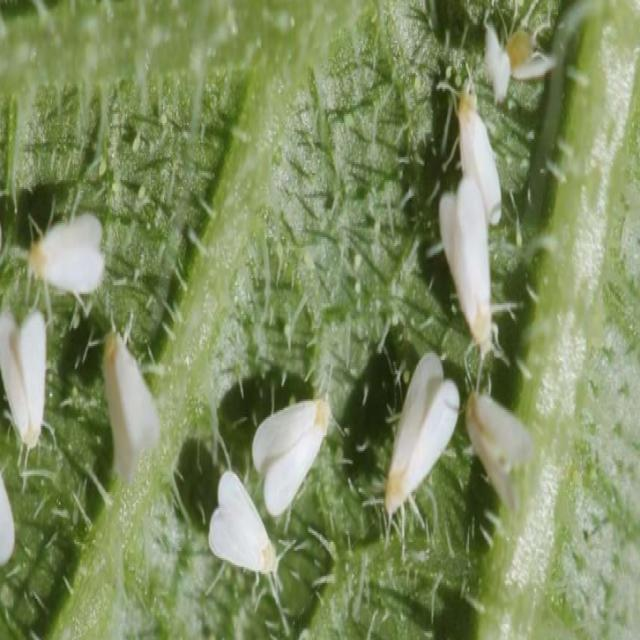Whitefly: (428, 48, 526, 371), (198, 378, 338, 603), (374, 360, 534, 540), (88, 292, 168, 503), (0, 298, 58, 487), (15, 194, 112, 305), (415, 338, 416, 354)
